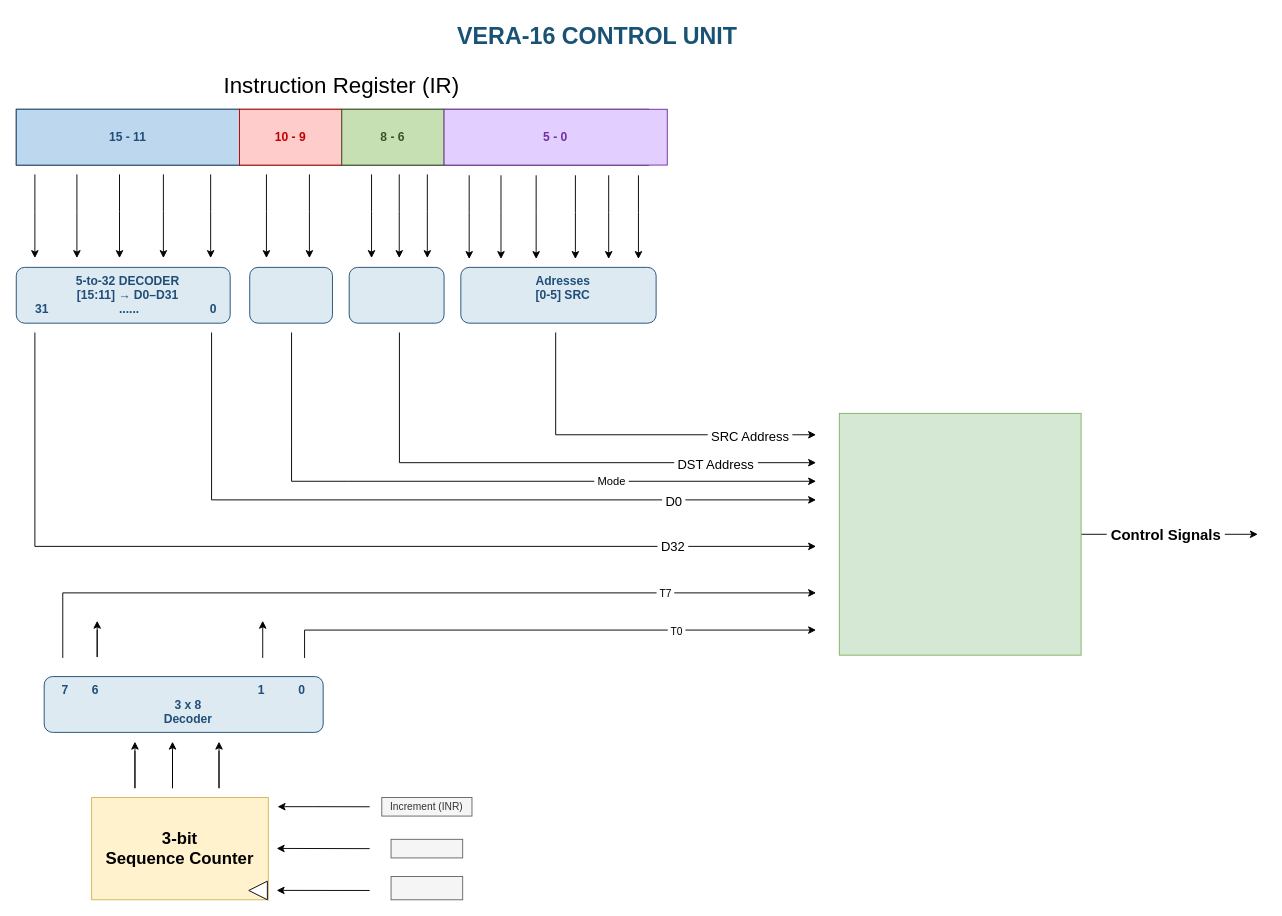
Some shapes in this 1282 by 916 pixel diagram are drawn without their labels. Here are the shapes that lost their labels. From the top down, the centre of each, then its label:
the point at 290,294: Mode Selector [9,10]
the point at 396,294: Adresses [6-9] DST
the point at 959,533: Combinational Control Logic
the point at 426,848: Clear (CLR)
the point at 426,888: Clock (CLK)
